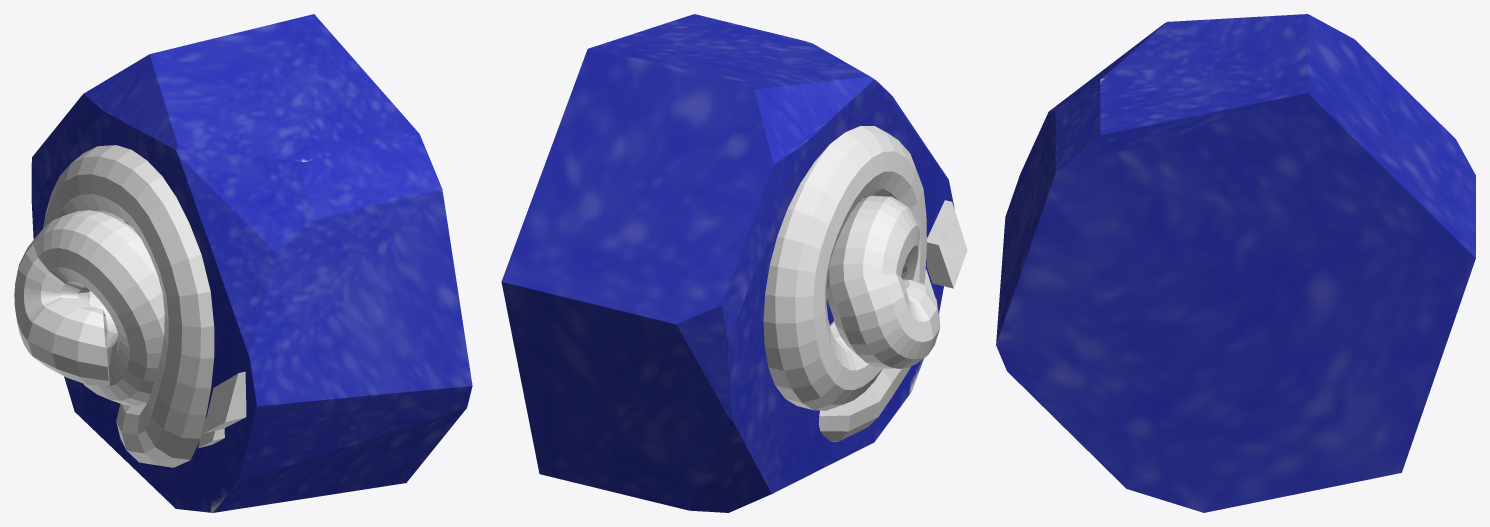
File: SM_Fosil2.fbx
The picture shows the model from 3 angles, left to right: view 1: azimuth 30°, elevation 25°; view 2: azimuth 150°, elevation 25°; view 3: azimuth 270°, elevation 25°; orthographic projection. The views are drawn at different scales.
Visible parts, largest first — view 1: SM_Fosil2; view 2: SM_Fosil2; view 3: SM_Fosil2.
Boxes of the visible parts, box(x1,y1,x2,y2) form: SM_Fosil2: box(14, 14, 472, 512); SM_Fosil2: box(501, 14, 967, 512); SM_Fosil2: box(996, 14, 1475, 512).
Size of the model in its own units: 154 by 200 by 207.
